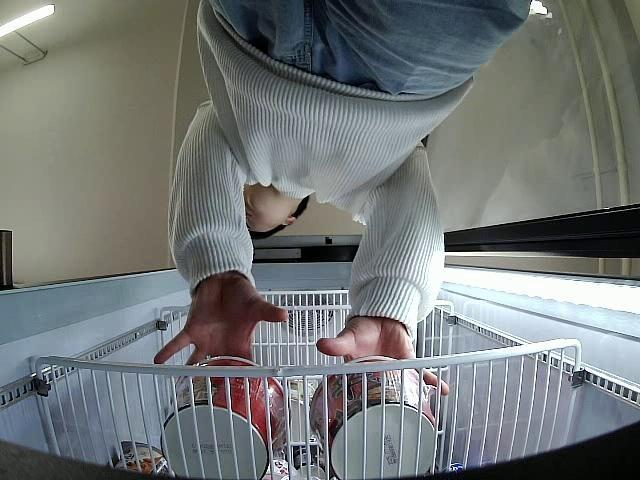01_ShinRamen_L: (158, 356, 291, 480), (306, 357, 439, 480)
